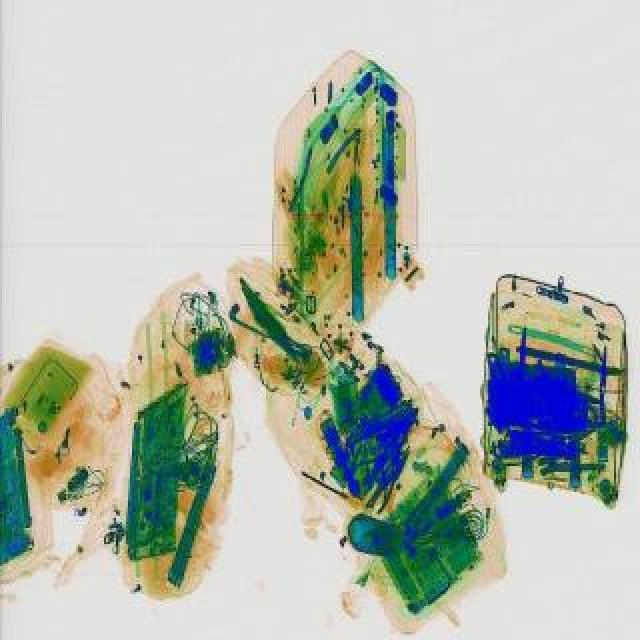wrench: (528, 426, 610, 488)
